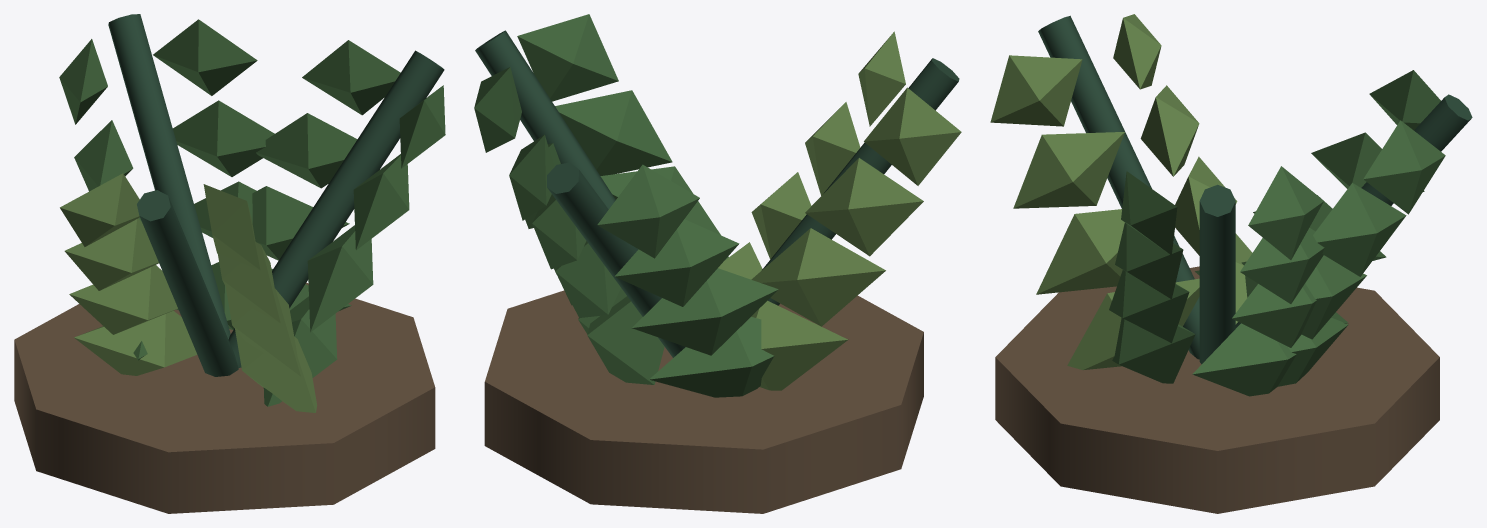
File: plant-fern-1.glb
3 renders of one model, left to right at view 1: azimuth 30°, elevation 25°; view 2: azimuth 150°, elevation 25°; view 3: azimuth 270°, elevation 25°, orthographic. The views are drawn at different scales.
Visible parts, largest first — view 1: plant-fern-1-visual; view 2: plant-fern-1-visual; view 3: plant-fern-1-visual.
Boxes of the visible parts, box(x1,y1,x2,y2) form: plant-fern-1-visual: box(14, 14, 445, 513); plant-fern-1-visual: box(474, 14, 961, 513); plant-fern-1-visual: box(990, 14, 1472, 513).
Size of the model in its own units: 0.3588 by 0.2636 by 0.3471.
